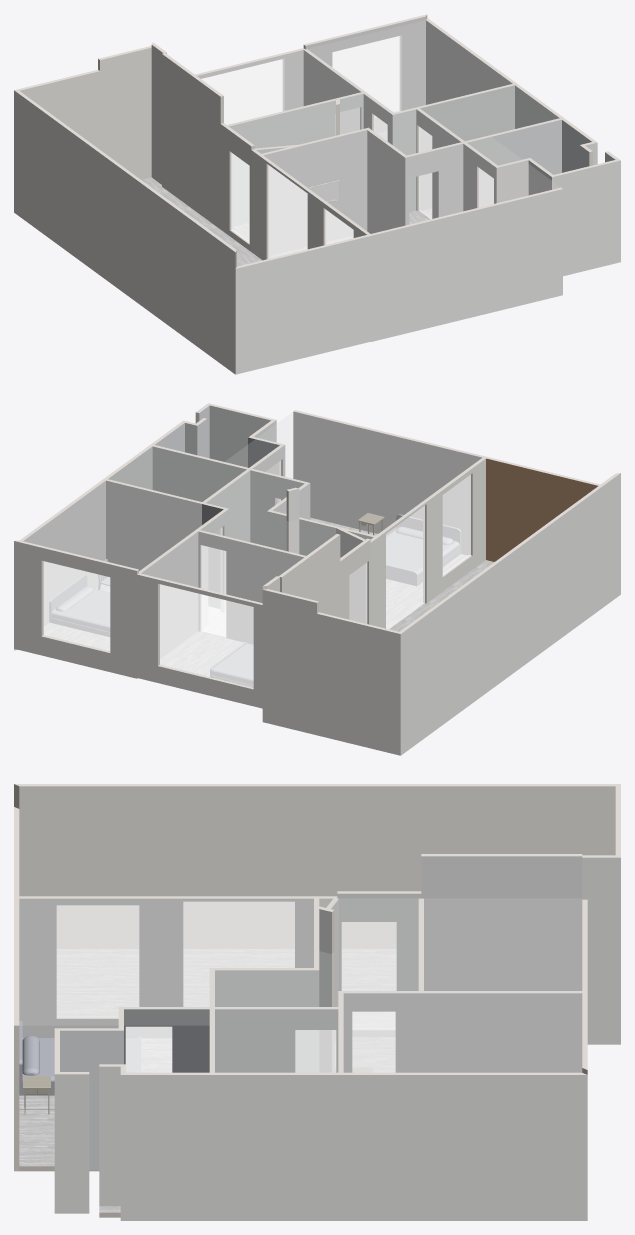
The picture shows the model from 3 angles, top to bottom: view 1: azimuth 30°, elevation 25°; view 2: azimuth 150°, elevation 25°; view 3: azimuth 270°, elevation 25°; orthographic projection. The views are drawn at different scales.
Parts seen in each view (by area): view 1: wall_0 (×2), wall_11 (×2), wall_12, ceiling_Bedroom_1, ceiling_Bedroom_2, wall_1, wall_20, wall_18, ceiling_Other_0, window_2 (×2), window_0 (×2), ceiling_Bedroom_3 (+26 smaller); view 2: wall_0 (×2), wall_1, wall_11 (×2), window_2 (×2), ceiling_Bedroom_1, window_0 (×2), ceiling_Bedroom_2, wall_13, door_0 (×2), ceiling_Other_0, wall_27 (×3), wall_12 (+31 smaller); view 3: wall_0 (×2), wall_27 (×2), wall_18, ceiling_Bedroom_1, ceiling_Bedroom_2, window_3 (×2), wall_28 (×2), door_0 (×2), ceiling_Bedroom_3, wall_26 (×2), ceiling_Other_0, floor_Other_0 (×2) (+21 smaller).
Boxes of the visible parts, x1,y1,x2,y2 form: wall_0 (×2): [14, 90, 236, 374]; wall_11 (×2): [369, 187, 562, 341]; wall_12: [235, 236, 370, 374]; ceiling_Bedroom_1: [262, 129, 474, 233]; ceiling_Bedroom_2: [306, 20, 512, 113]; wall_1: [19, 47, 151, 179]; wall_20: [264, 130, 367, 255]; wall_18: [162, 54, 220, 229]; ceiling_Other_0: [229, 93, 462, 155]; window_2 (×2): [202, 59, 284, 124]; window_0 (×2): [332, 36, 401, 112]; ceiling_Bedroom_3: [198, 50, 362, 124]; wall_0 (×2): [399, 473, 620, 755]; wall_1: [262, 590, 400, 755]; wall_11 (×2): [293, 410, 485, 555]; window_2 (×2): [160, 584, 253, 686]; ceiling_Bedroom_1: [271, 432, 482, 536]; window_0 (×2): [44, 561, 109, 650]; ceiling_Bedroom_2: [24, 480, 225, 572]; wall_13: [14, 541, 136, 678]; door_0 (×2): [386, 506, 424, 628]; ceiling_Other_0: [199, 470, 363, 556]; wall_27 (×3): [20, 420, 184, 625]; wall_12: [486, 458, 597, 561]; wall_0 (×2): [14, 784, 620, 948]; wall_27 (×2): [120, 1072, 587, 1220]; wall_18: [421, 856, 582, 990]; ceiling_Bedroom_1: [20, 898, 315, 968]; ceiling_Bedroom_2: [341, 993, 581, 1071]; window_3 (×2): [57, 905, 138, 1017]; wall_28 (×2): [339, 991, 582, 1072]; door_0 (×2): [183, 902, 294, 1006]; ceiling_Bedroom_3: [422, 899, 581, 991]; wall_26 (×2): [19, 896, 337, 1037]; ceiling_Other_0: [213, 898, 420, 1007]; floor_Other_0 (×2): [57, 949, 396, 1072].
Size of the model in its own units: 11.6 by 3.79 by 11.09.
Materials: 91 (10 with a texture image).
